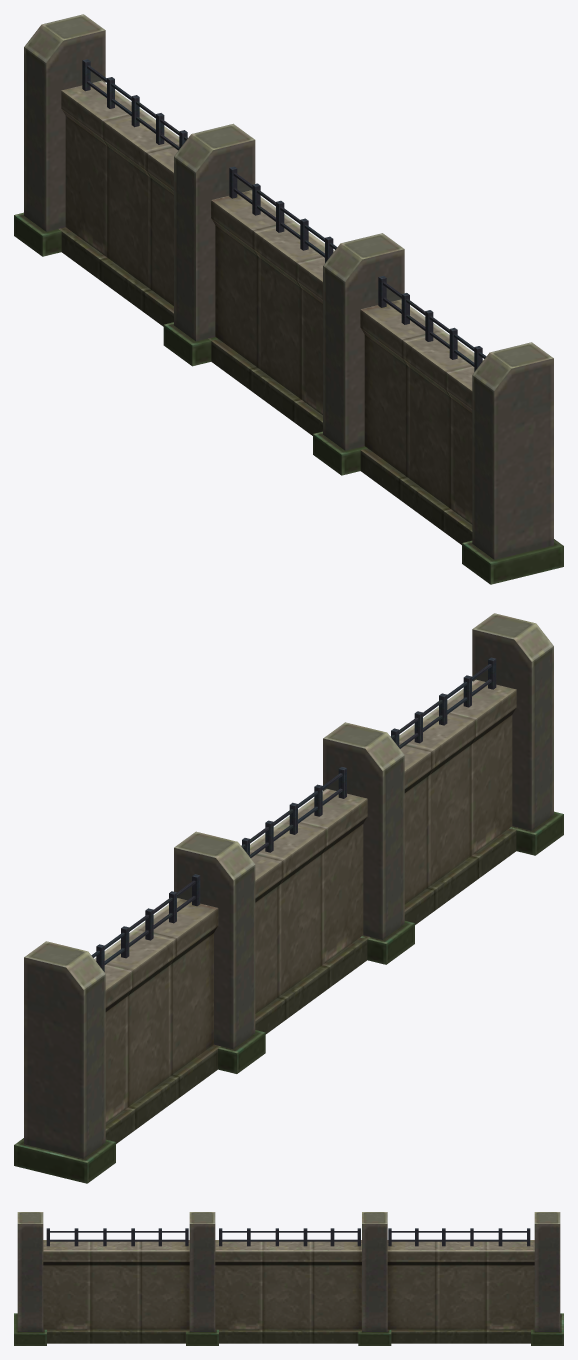
The model's file is wall03.FBX.
The picture shows the model from 3 angles, top to bottom: view 1: azimuth 30°, elevation 25°; view 2: azimuth 150°, elevation 25°; view 3: azimuth 270°, elevation 25°; orthographic projection. The views are drawn at different scales.
Parts seen in each view (by area): view 1: 对象003; view 2: 对象003; view 3: 对象003.
Boxes of the visible parts, <box> form: 对象003: <box>14,14,563,584</box>; 对象003: <box>14,613,563,1183</box>; 对象003: <box>14,1212,563,1345</box>.
Bounding box in the file's own units: 1.32 × 3.57 × 14.83.
